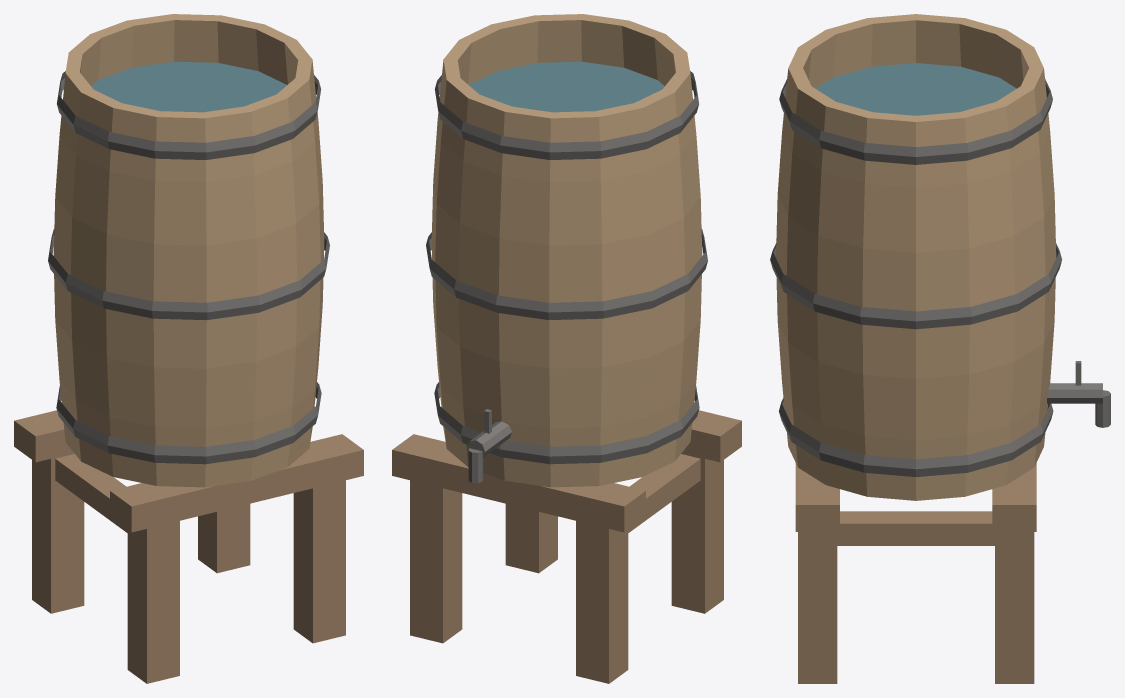
File: prop-water-barrel.fbx
3 renders of one model, left to right at view 1: azimuth 30°, elevation 25°; view 2: azimuth 150°, elevation 25°; view 3: azimuth 270°, elevation 25°, orthographic. The views are drawn at different scales.
Parts seen in each view (by area): view 1: prop-water-barrel; view 2: prop-water-barrel; view 3: prop-water-barrel.
Boxes of the visible parts, <box> form: prop-water-barrel: <box>14,14,363,683</box>; prop-water-barrel: <box>392,14,741,683</box>; prop-water-barrel: <box>770,14,1110,683</box>.
Size of the model in its own units: 0.594 by 1.27 by 0.693.
